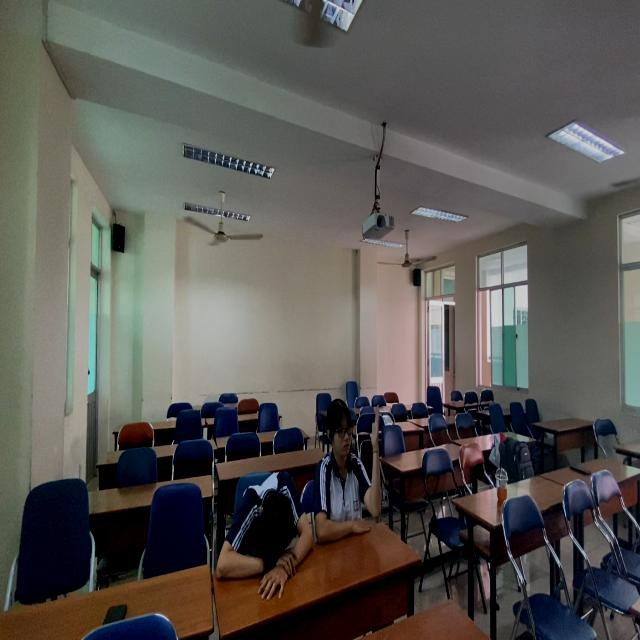raise_hand: (315, 390, 397, 526)
sleep: (210, 457, 315, 587)
